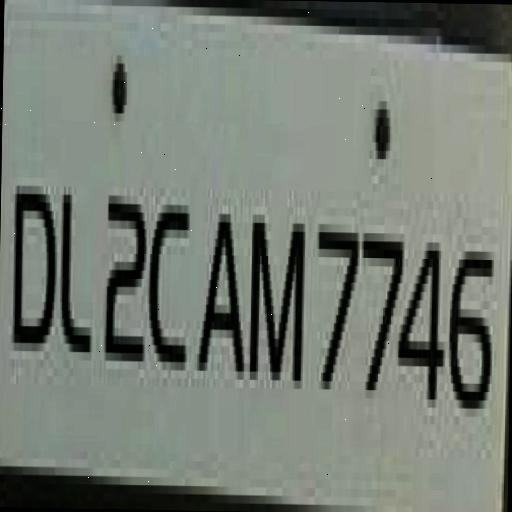number plate: (0, 12, 493, 512)
